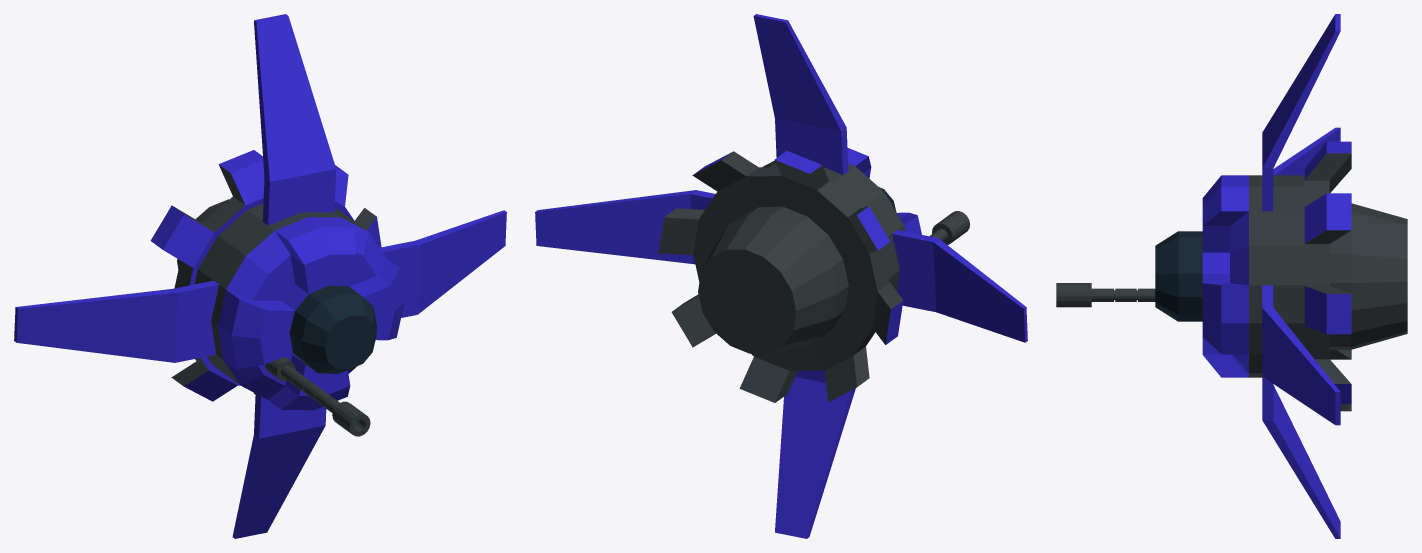
The model's file is SpaceShip.fbx.
The picture shows the model from 3 angles, left to right: view 1: azimuth 30°, elevation 25°; view 2: azimuth 150°, elevation 25°; view 3: azimuth 270°, elevation 25°; orthographic projection.
Parts seen in each view (by area): view 1: SpaceShip_1; view 2: SpaceShip_1; view 3: SpaceShip_1.
Boxes of the visible parts, left/top/right/bottom form: SpaceShip_1: left=14, top=14, right=506, bottom=538; SpaceShip_1: left=535, top=14, right=1027, bottom=538; SpaceShip_1: left=1056, top=14, right=1407, bottom=538.
Size of the model in its own units: 3.79 by 3.79 by 2.32.
